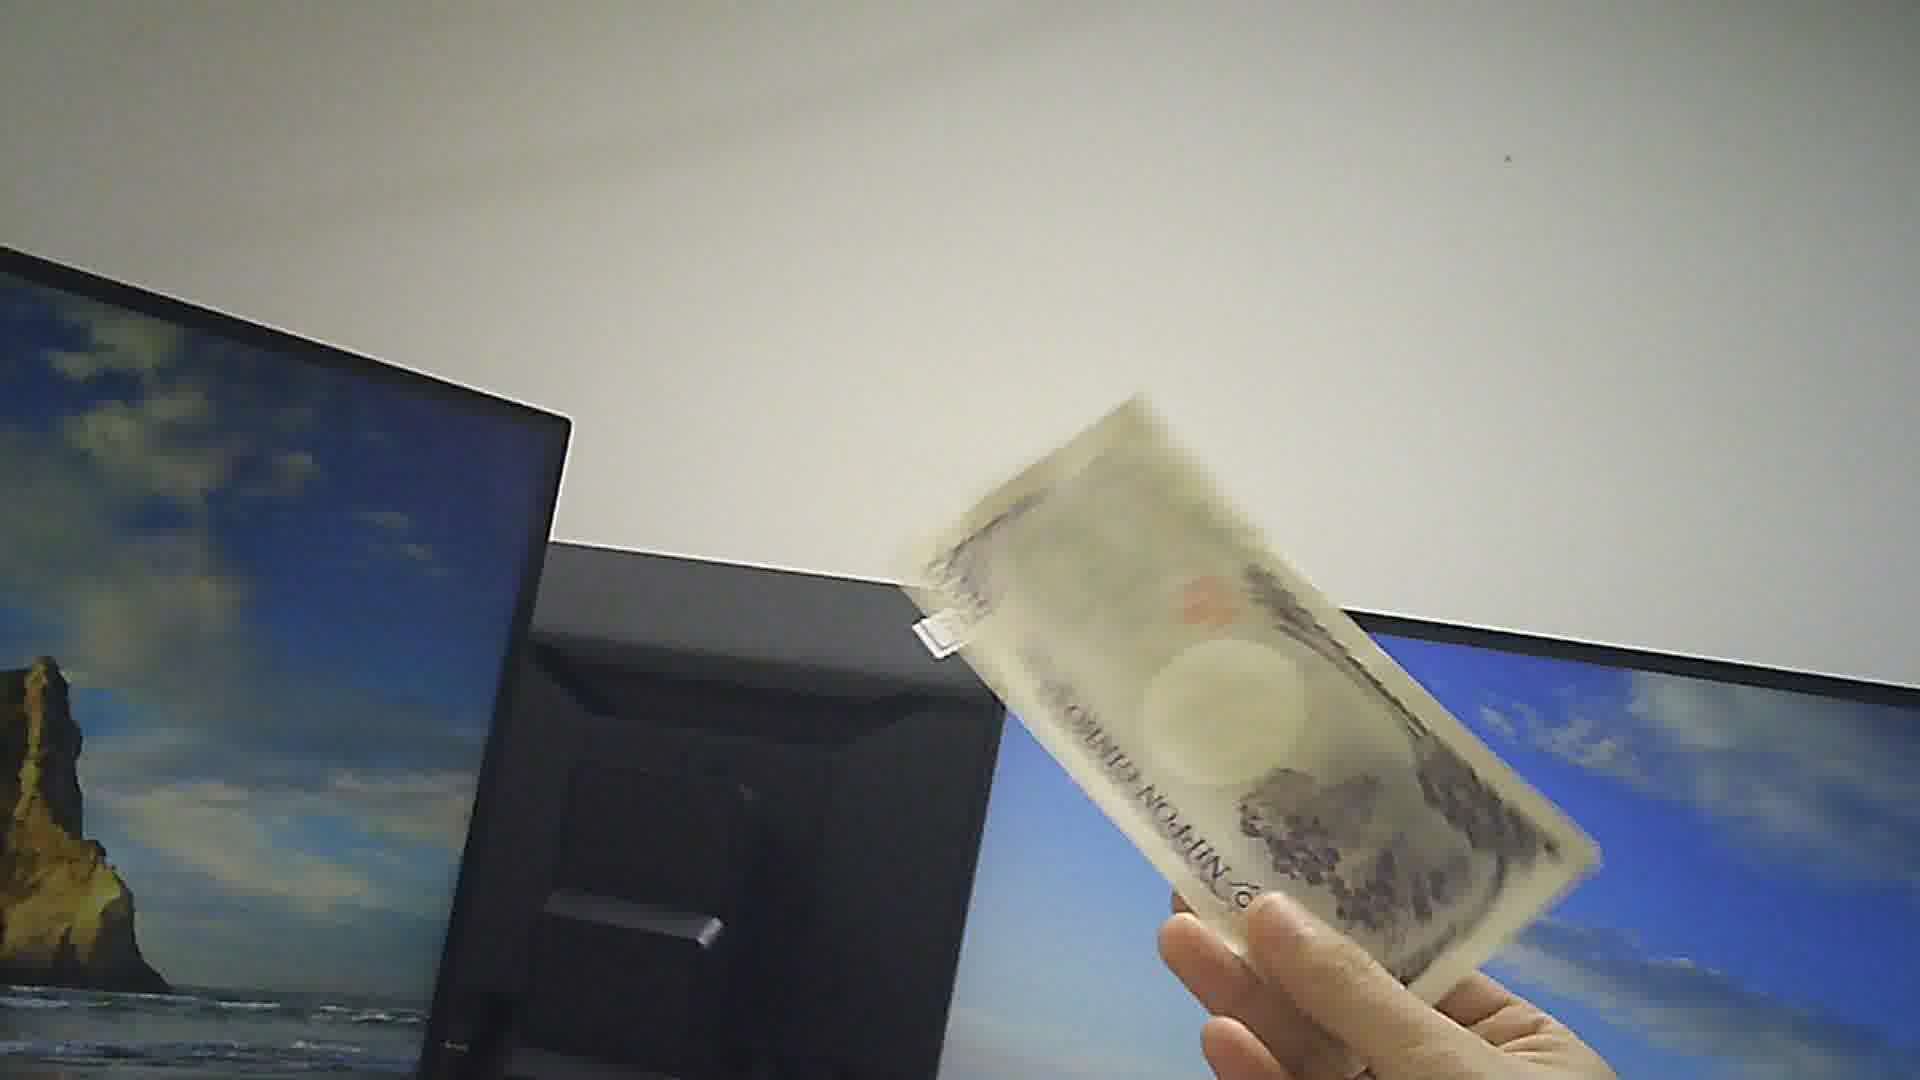5,000 Yen: (920, 400, 1582, 1047)
